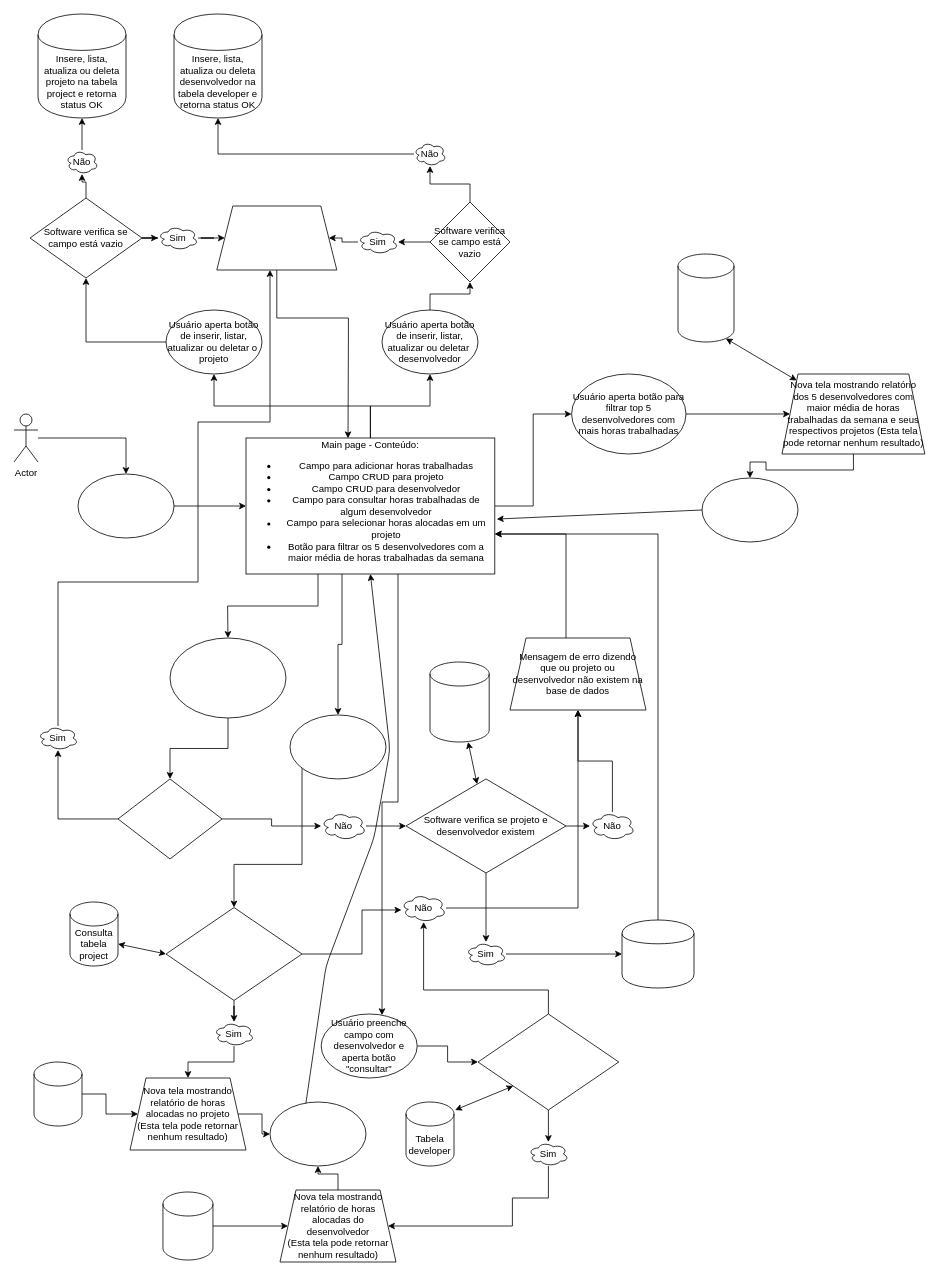
This 939x1276 diagram has some shape labels left out. The shapes that lost their labels are listed below. From the top down, each one's box as (x1, y1, x2, y2) in pixels, then its label:
(216, 205, 337, 270): Mensagem de erro exigindo alguma coisa escrita
(677, 253, 734, 342): Tabela worktime, developer e project
(77, 473, 174, 538): Usuário inicia o programa
(701, 477, 798, 542): Usuário aperta "OK" e volta pra Main page
(169, 637, 286, 718): Usuário preenche formulário de horas trabalhadas e aperta botão "inserir
(429, 661, 489, 742): Consulta tabelas project e developer
(289, 714, 386, 779): Usuário preenche campo com projeto e aperta botão "consultar"
(117, 778, 222, 859): Software verifica se algum campo está vazio
(165, 907, 302, 1000): Software verifica se projeto existe na tabela project
(621, 919, 694, 988): Insere dados na tabela worktime
(477, 1013, 619, 1110): Software verifica se desenvolvedor existe na tabela developer
(33, 1061, 82, 1126): Tabela project e worktime
(269, 1101, 366, 1166): Usuário aperta "OK" no relatório e volta para a Main page
(162, 1191, 213, 1260): Tabela developer e worktime
